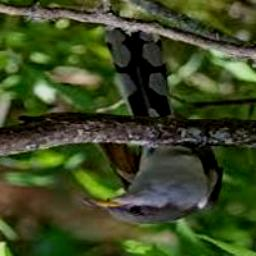Cuckoo: (82, 27, 224, 225)
